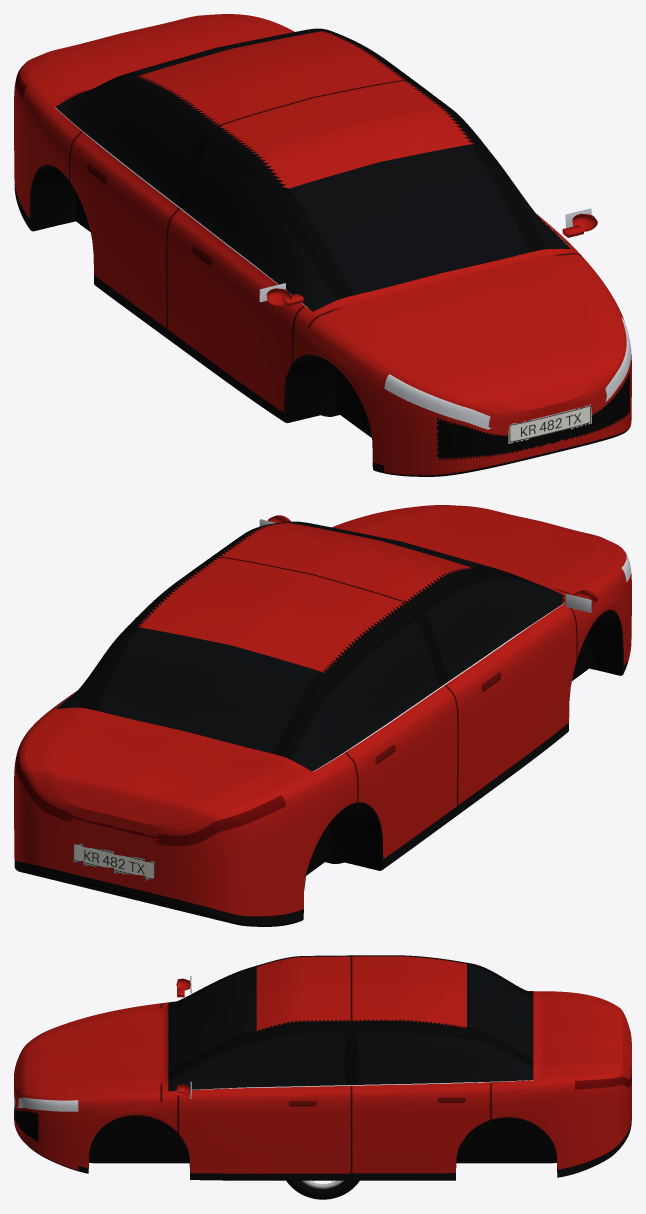
File: sedan.glb
3 renders of one model, top to bottom at view 1: azimuth 30°, elevation 25°; view 2: azimuth 150°, elevation 25°; view 3: azimuth 270°, elevation 25°, orthographic. The views are drawn at different scales.
Parts seen in each view (by area): view 1: body; view 2: body; view 3: body, wheel.
Boxes of the visible parts, x1,y1,x2,y2 form: body: (14, 14, 631, 476); body: (14, 505, 631, 926); body: (14, 955, 631, 1180); wheel: (286, 1180, 359, 1199).
Bounding box in the file's own units: 2.09 × 1.79 × 4.78.
Materials: 17 (2 with a texture image).
